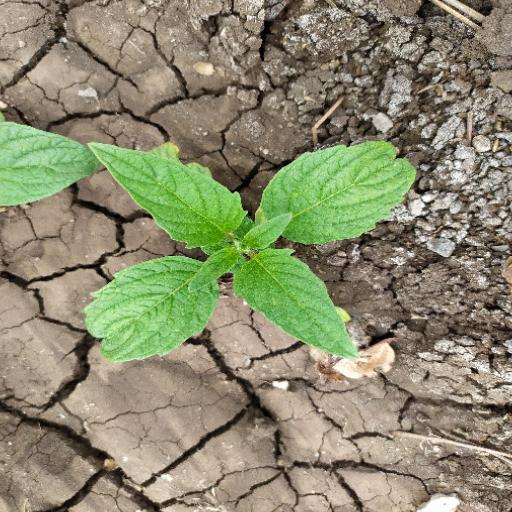crop: (82, 118, 423, 387)
